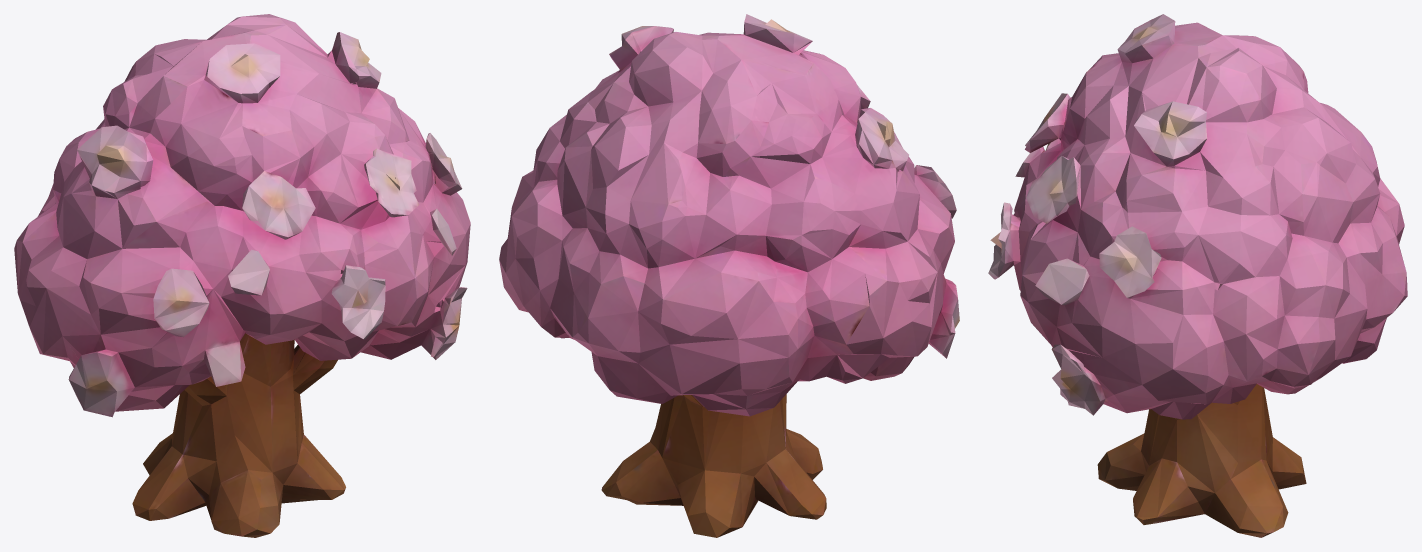
The model's file is blossom_tree.glb.
3 renders of one model, left to right at view 1: azimuth 30°, elevation 25°; view 2: azimuth 150°, elevation 25°; view 3: azimuth 270°, elevation 25°, orthographic.
Visible parts, largest first — view 1: geometry_0; view 2: geometry_0; view 3: geometry_0.
Part boxes in pixels (x1,y1,x2,y2): geometry_0: (14, 14, 470, 537); geometry_0: (499, 14, 959, 537); geometry_0: (988, 14, 1407, 537).
Bounding box in the file's own units: 0.9337 × 0.9949 × 0.8184.
1 material, 1 textured.
